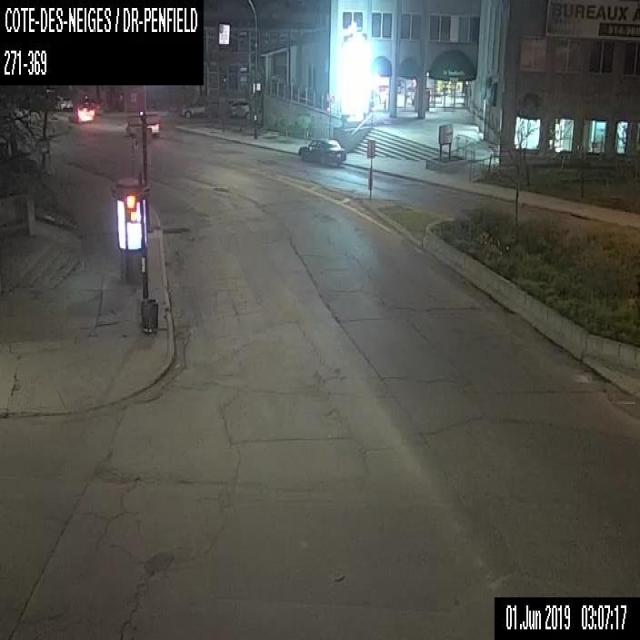vehicle: (297, 136, 345, 164), (125, 110, 159, 135), (180, 100, 210, 116), (69, 104, 95, 121), (229, 99, 250, 118), (53, 95, 73, 111)
